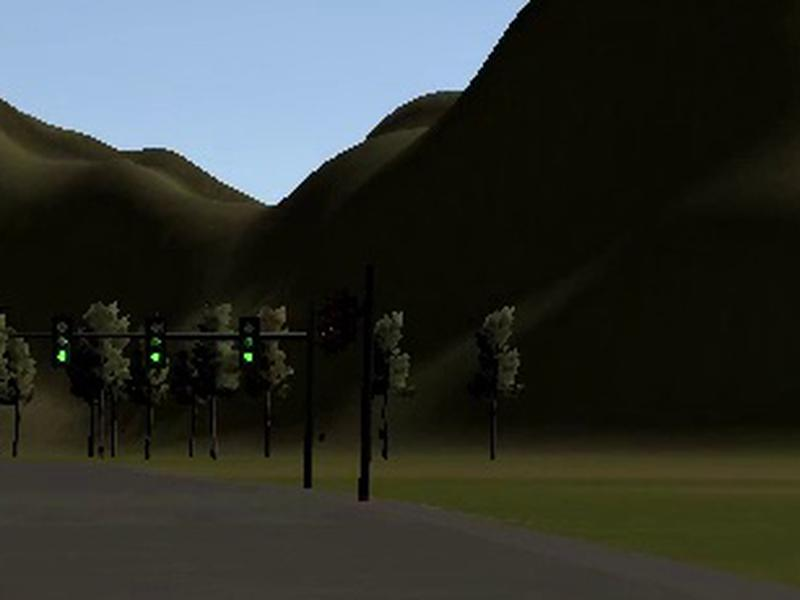Green: (238, 316, 259, 368), (145, 317, 166, 368), (52, 317, 71, 368)
